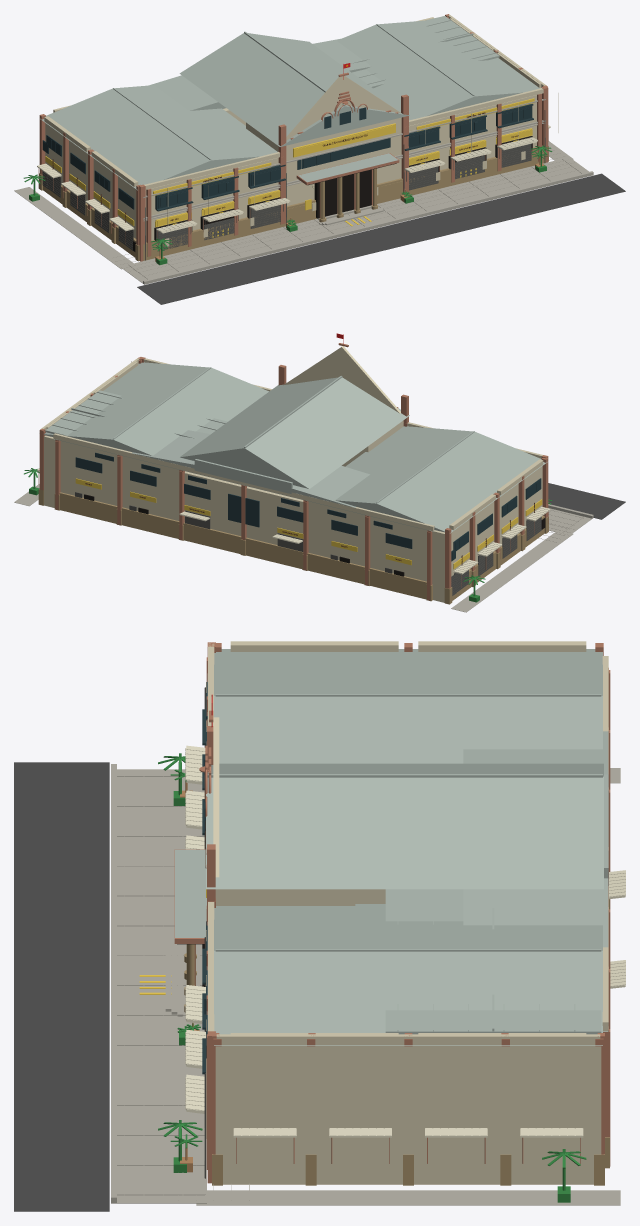
File: RachGiaMarket_Current_Color_V3.glb
3 renders of one model, top to bottom at view 1: azimuth 30°, elevation 25°; view 2: azimuth 150°, elevation 25°; view 3: azimuth 270°, elevation 25°, orthographic. The views are drawn at different scales.
Visible parts, largest first — view 1: side_roofs_left_wing, main_roof_central_high_gable, road_strip_front, side_roofs_right_wing, sidewalk_large_front_plaza, central_front_block_gable_face, left_wing_block, RG_Front_Ground_Dark_BaseStrip, curb_front_long, rear_block_roof, right_wing_block, sidewalk_side_return_left (+25 smaller); view 2: main_roof_central_high_gable, side_roofs_left_wing, side_roofs_right_wing, rear_block, left_wing_block, rear_wall_base_band, right_wing_block, rear_block_roof, rear_top_parapet_long, central_front_block_gable_face, sidewalk_side_return_left, road_strip_front (+6 smaller); view 3: restore_missing_half_right_wall_skin, main_roof_central_high_gable, road_strip_front, side_roofs_left_wing, side_roofs_right_wing, sidewalk_large_front_plaza, rear_block_roof, restore_missing_half_rear_right_roof_plane, sidewalk_side_return_right, restore_missing_half_right_top_parapet, front_canopy_main_flat_roof, curb_front_long (+11 smaller).
Boxes of the visible parts, x1,y1,x2,y2 form: side_roofs_left_wing: (39,85,277,190); main_roof_central_high_gable: (179,33,409,146); road_strip_front: (137,173,625,304); side_roofs_right_wing: (337,20,541,120); sidewalk_large_front_plaza: (120,157,588,283); central_front_block_gable_face: (286,76,401,205); left_wing_block: (45,123,278,241); RG_Front_Ground_Dark_BaseStrip: (143,146,545,260); curb_front_long: (143,171,593,284); rear_block_roof: (148,38,371,110); right_wing_block: (409,95,536,169); sidewalk_side_return_left: (14,187,133,269); main_roof_central_high_gable: (180,377,409,488); side_roofs_left_wing: (335,426,547,533); side_roofs_right_wing: (44,362,268,455); rear_block: (60,443,426,581); left_wing_block: (308,466,542,602); rear_wall_base_band: (59,492,426,599); right_wing_block: (44,435,179,520); rear_block_roof: (54,430,434,531); rear_top_parapet_long: (53,433,434,531); central_front_block_gable_face: (283,346,400,413); sidewalk_side_return_left: (451,532,573,612); road_strip_front: (548,483,625,519); restore_missing_half_right_wall_skin: (215,1046,601,1184); main_roof_central_high_gable: (206,763,603,889); road_strip_front: (14,762,109,1211); side_roofs_left_wing: (214,649,602,763); side_roofs_right_wing: (214,904,602,1045); sidewalk_large_front_plaza: (117,769,206,1203); rear_block_roof: (463,731,608,1031); restore_missing_half_rear_right_roof_plane: (385,889,601,1034); sidewalk_side_return_right: (196,1190,620,1205); restore_missing_half_right_top_parapet: (216,1034,600,1046); front_canopy_main_flat_roof: (175,849,206,937); curb_front_long: (111,764,116,1203).
Bounding box in the file's own units: 60 × 18.24 × 34.59.
